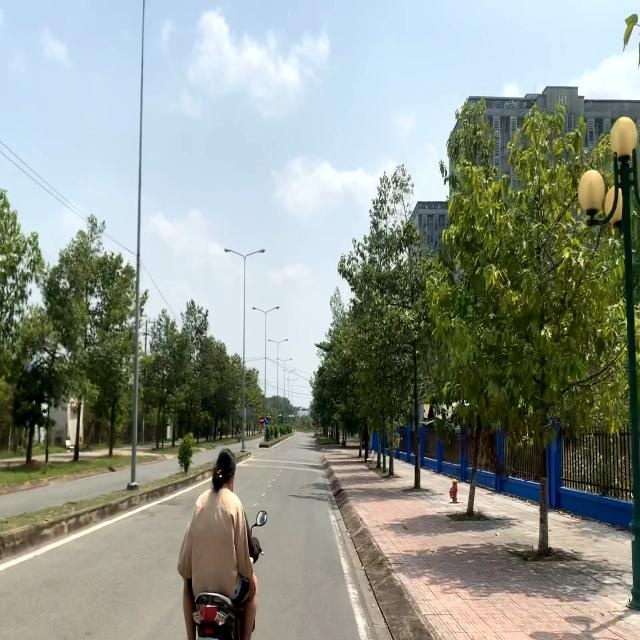bien_cam: (264, 416, 269, 424), (259, 416, 264, 424)
